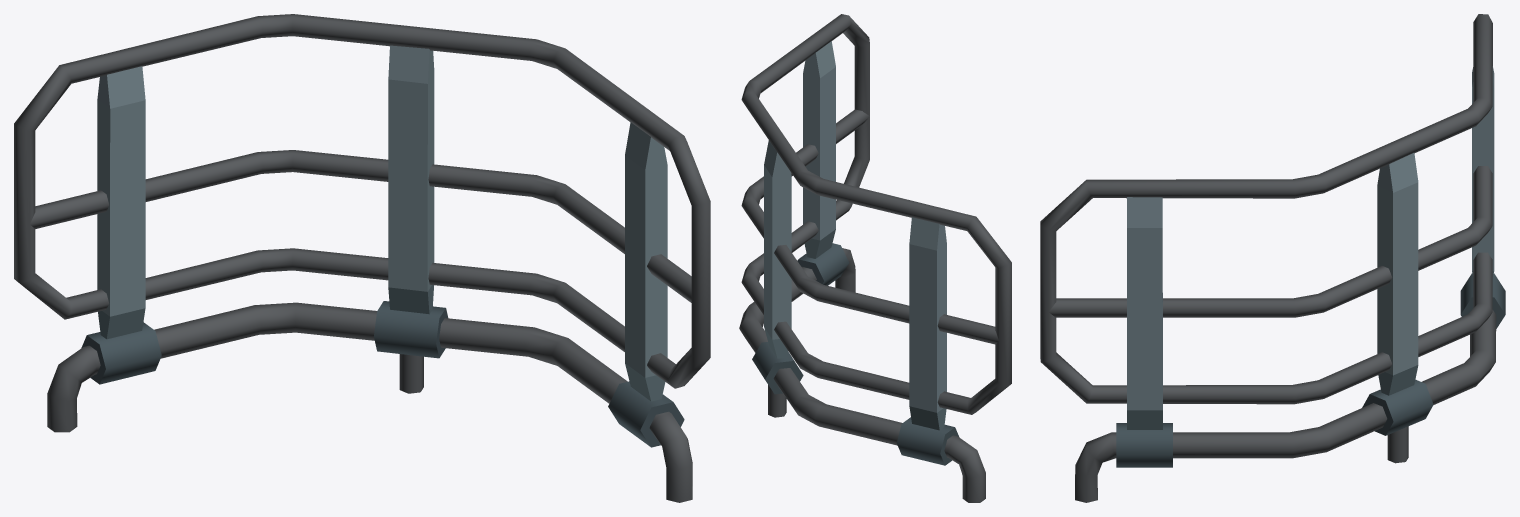
The model's file is Fence_type_B_004.fbx.
The picture shows the model from 3 angles, left to right: view 1: azimuth 30°, elevation 25°; view 2: azimuth 150°, elevation 25°; view 3: azimuth 270°, elevation 25°; orthographic projection. The views are drawn at different scales.
Parts seen in each view (by area): view 1: Fence_type_B_004; view 2: Fence_type_B_004; view 3: Fence_type_B_004.
Part boxes in pixels (x1,y1,x2,y2): Fence_type_B_004: (14, 14, 710, 502); Fence_type_B_004: (739, 14, 1011, 502); Fence_type_B_004: (1040, 14, 1505, 502).
Bounding box in the file's own units: 190 × 190 × 143.
